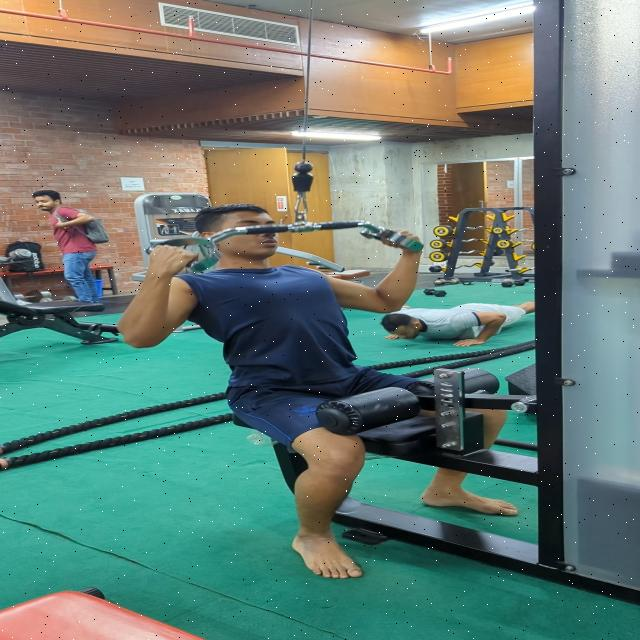Normal_LatPulldown: (103, 197, 510, 590)
